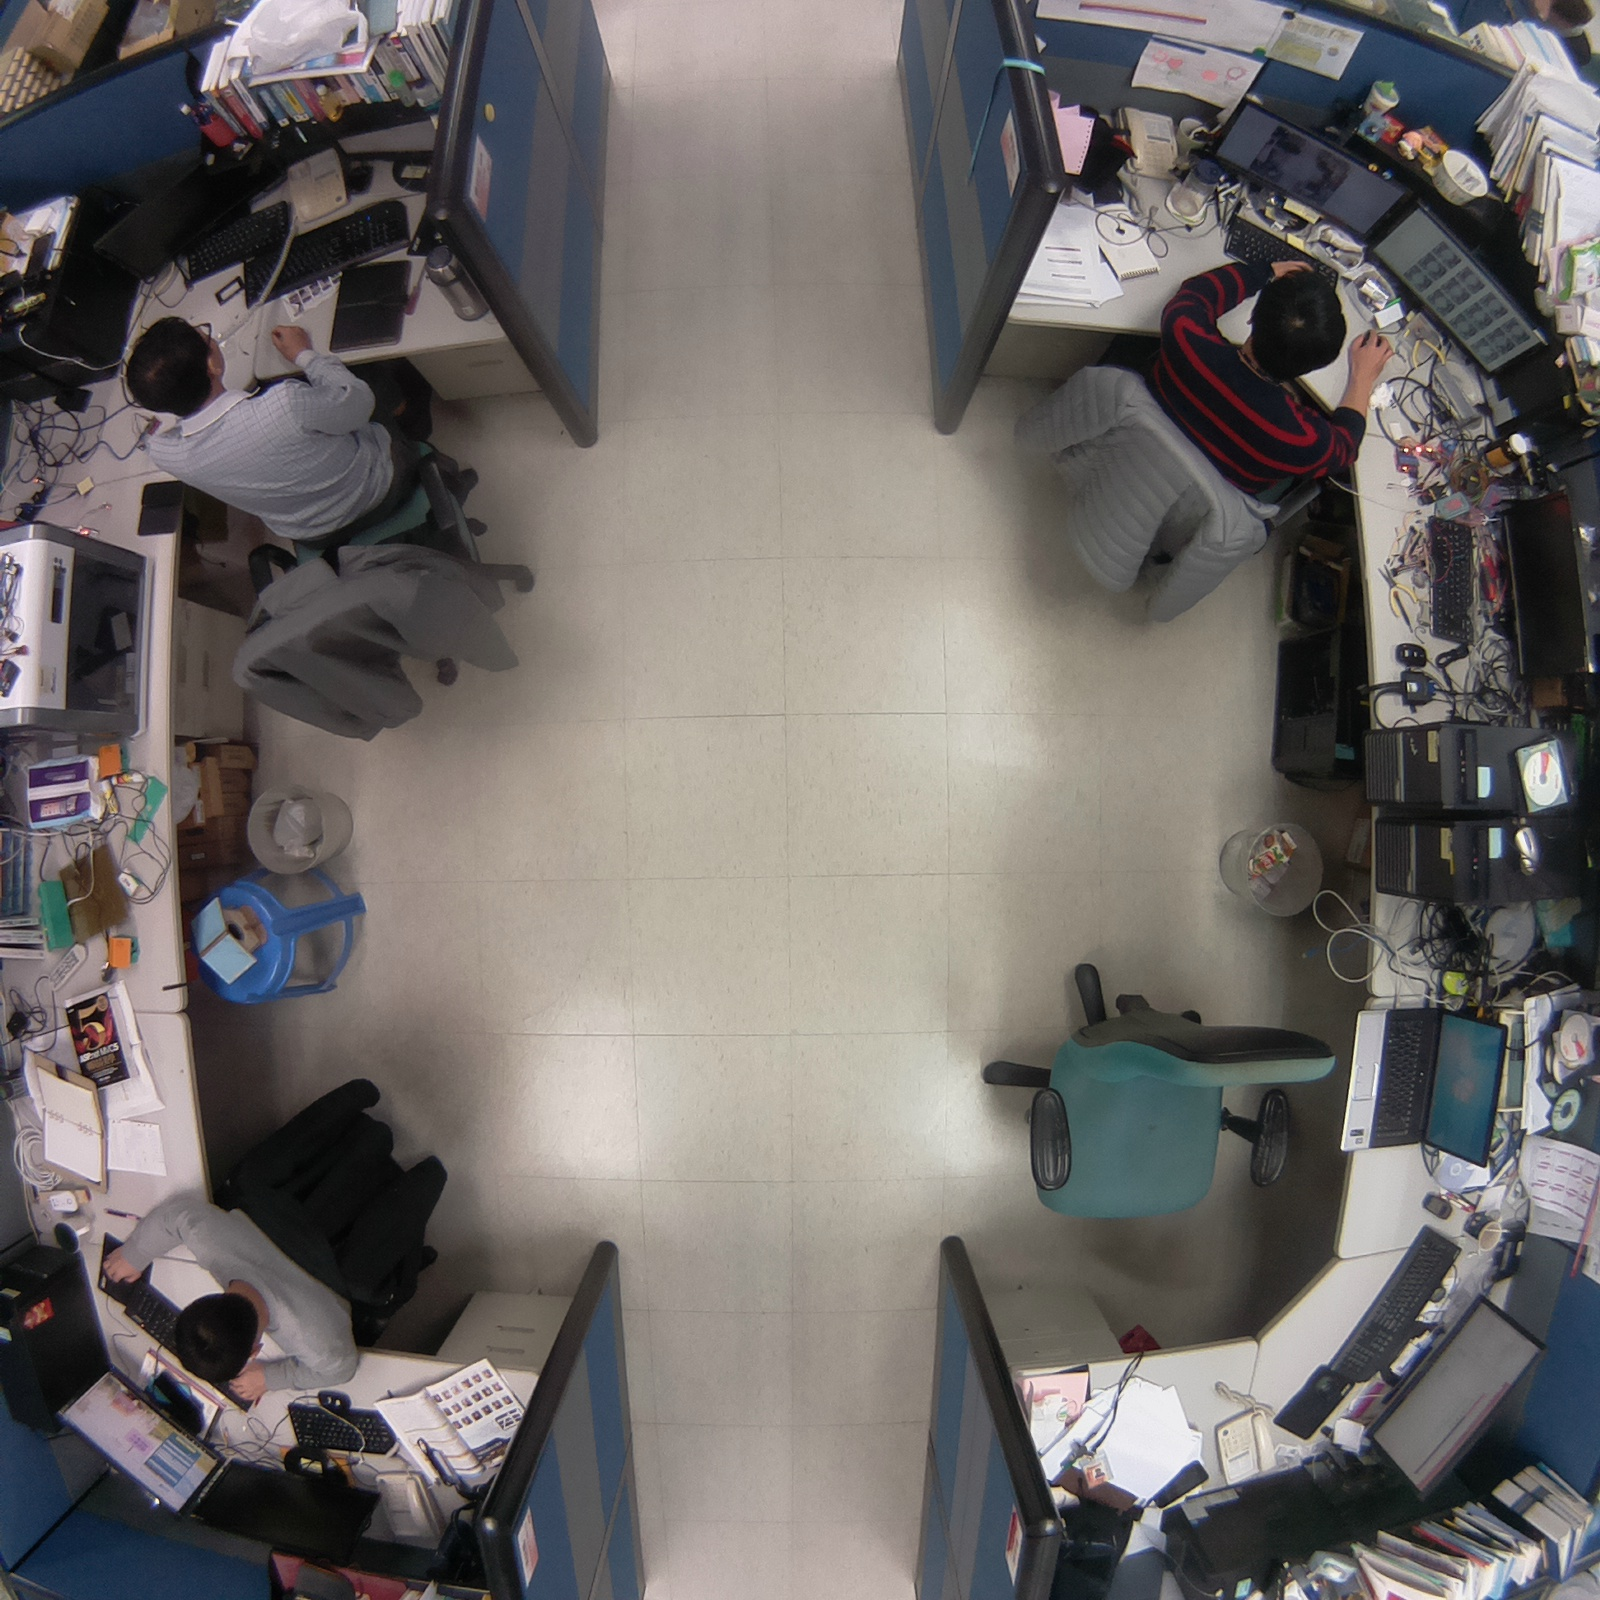chair: (955, 945, 1337, 1232)
head: (1240, 263, 1351, 380), (119, 317, 232, 421), (170, 1291, 263, 1380)
sitting: (101, 296, 573, 760), (983, 247, 1394, 642), (81, 1052, 468, 1411)
